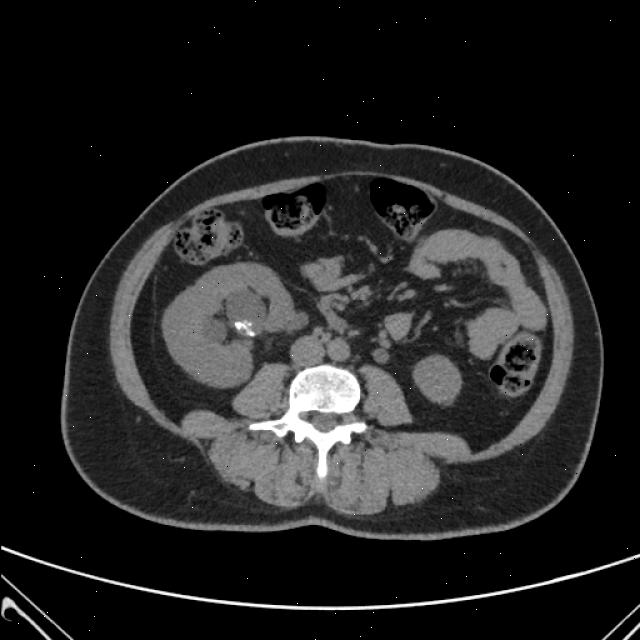kidneystone: (235, 321, 256, 337)
